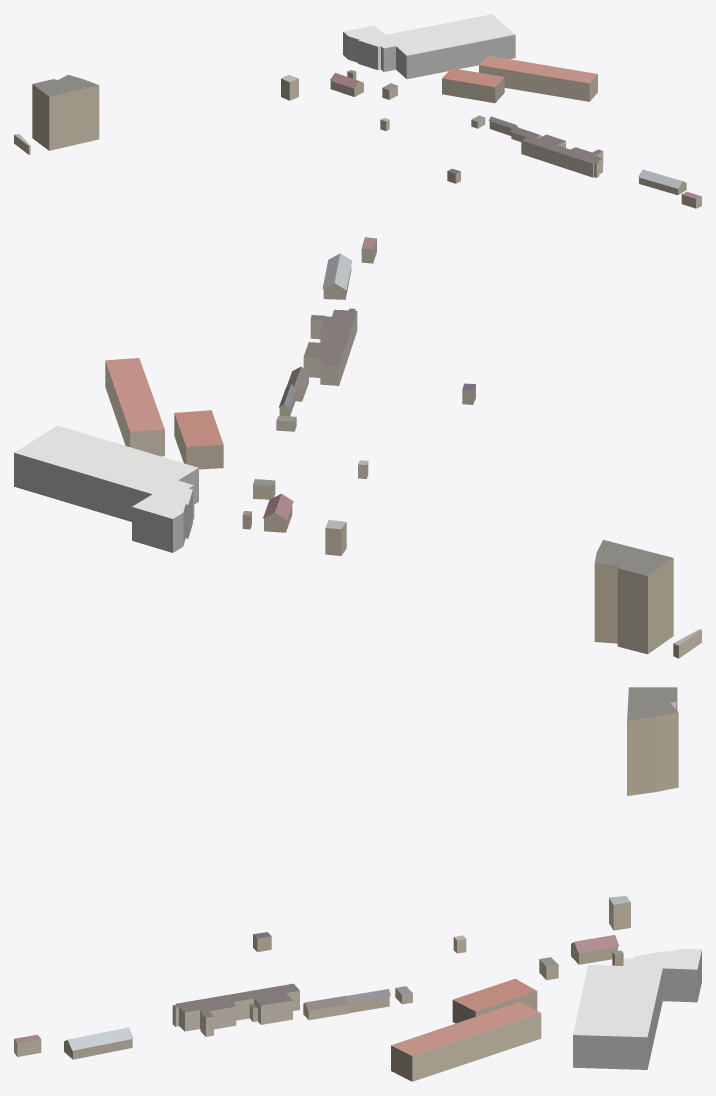
The picture shows the model from 3 angles, top to bottom: view 1: azimuth 30°, elevation 25°; view 2: azimuth 150°, elevation 25°; view 3: azimuth 270°, elevation 25°; orthographic projection. The views are drawn at different scales.
Visible parts, largest first — view 1: tuile; view 2: tuile; view 3: tuile.
Boxes of the visible parts, box(x1,y1,x2,y2) form: tuile: box(14, 14, 701, 208); tuile: box(14, 237, 701, 658); tuile: box(14, 687, 701, 1081).
Size of the model in its own units: 262 by 28.48 by 229.
